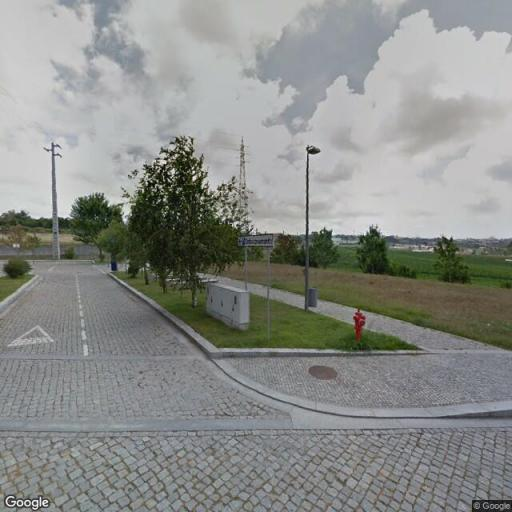mono_10: (43, 135, 64, 257)
ss_3: (233, 135, 253, 233)
